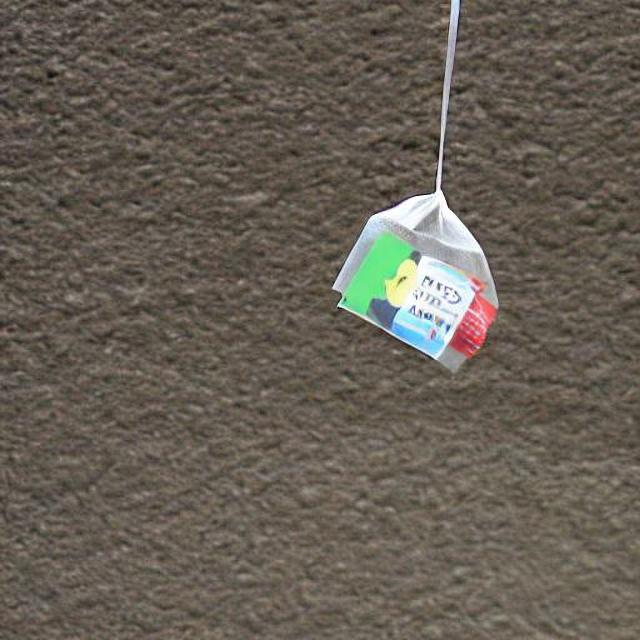plastic bag: (335, 204, 497, 360)
